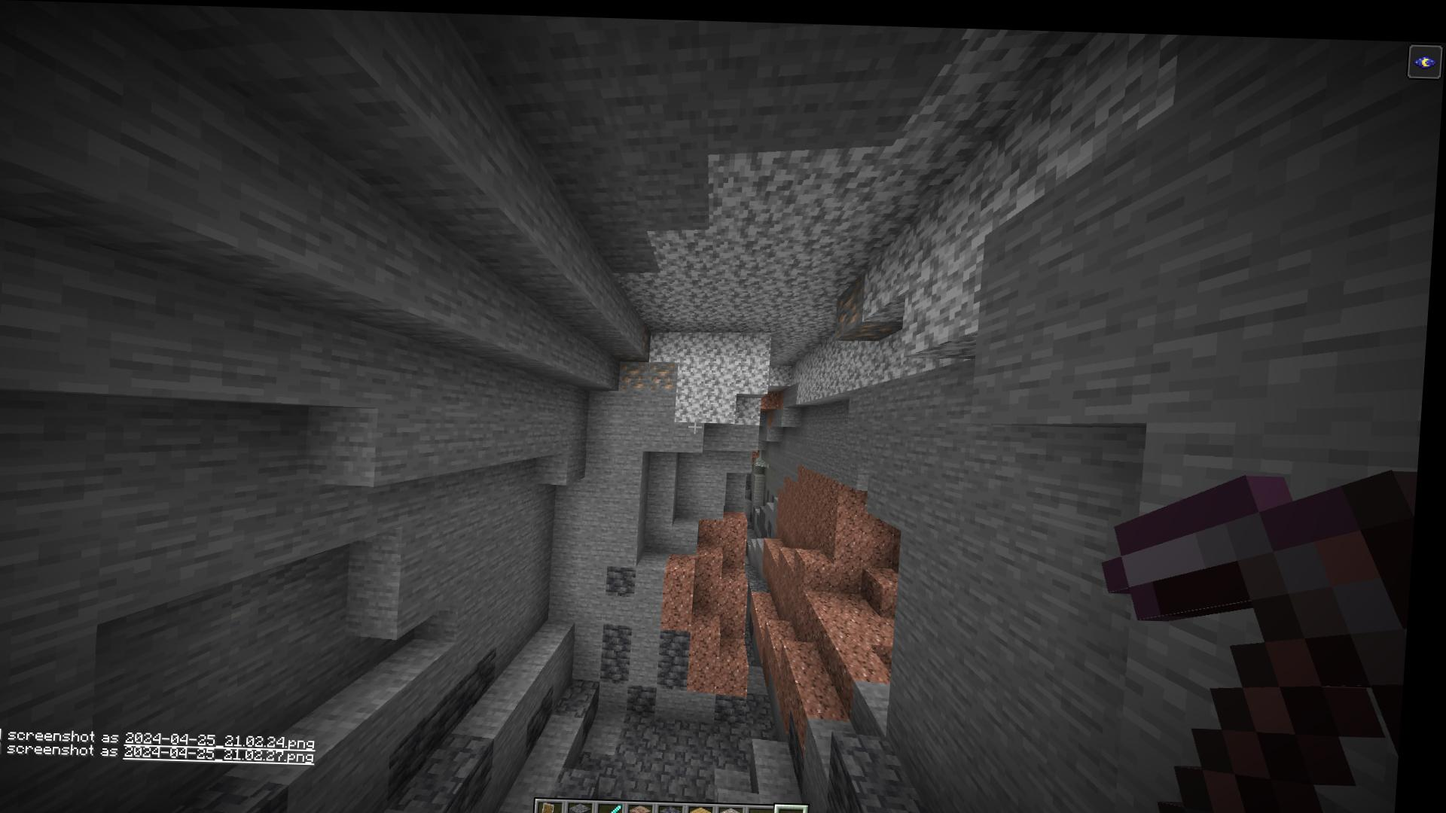iron ore: (839, 277, 868, 327), (848, 315, 903, 333), (624, 356, 653, 386), (651, 360, 683, 386)
